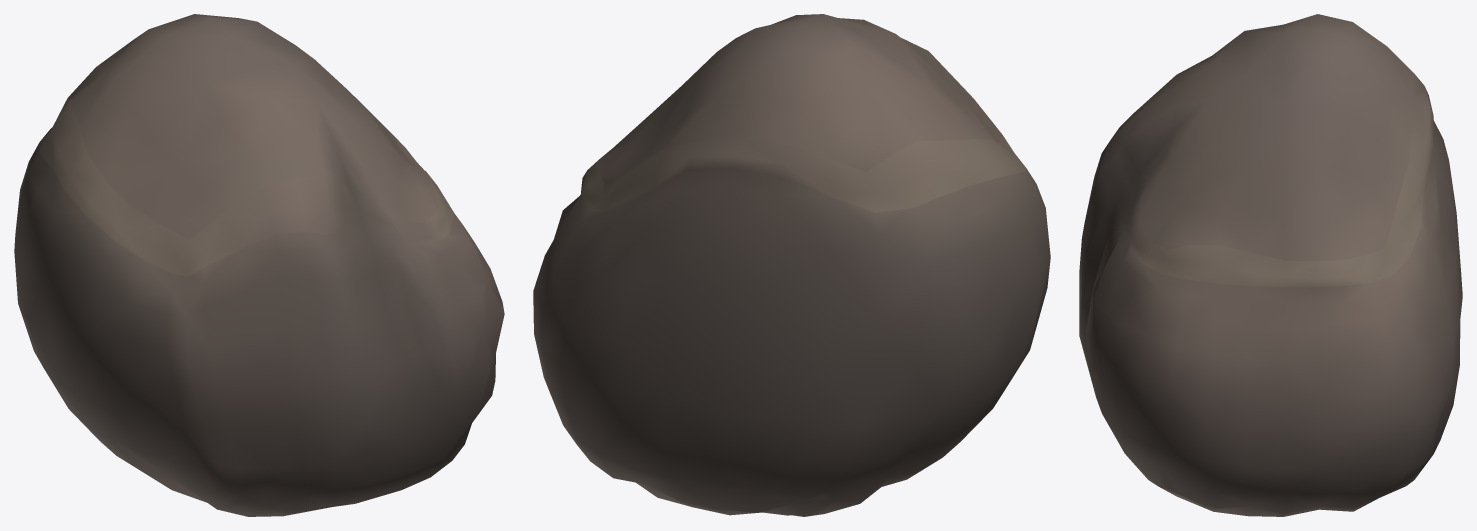
3 renders of one model, left to right at view 1: azimuth 30°, elevation 25°; view 2: azimuth 150°, elevation 25°; view 3: azimuth 270°, elevation 25°, orthographic. The views are drawn at different scales.
Visible parts, largest first — view 1: RockLarge.008; view 2: RockLarge.008; view 3: RockLarge.008.
Part boxes in pixels (x1,y1,x2,y2): RockLarge.008: (14, 14, 504, 516); RockLarge.008: (533, 14, 1050, 516); RockLarge.008: (1079, 14, 1462, 516).
Bounding box in the file's own units: 0.491 × 0.5 × 0.4122.
